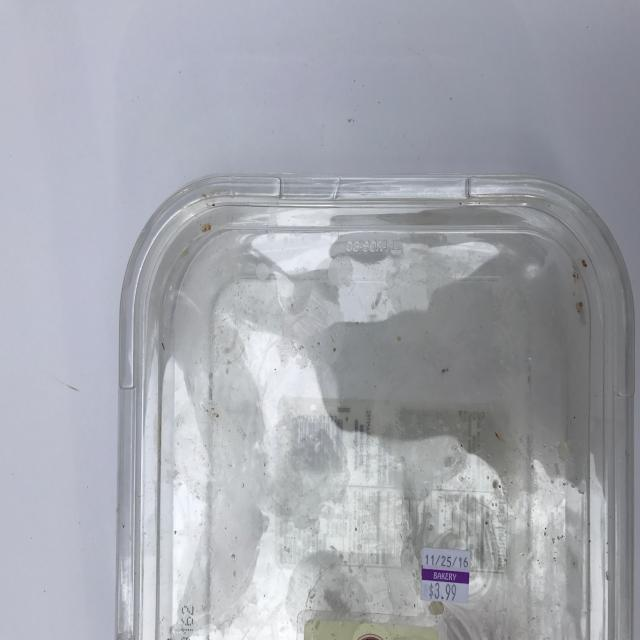plastic: (116, 174, 634, 640)
